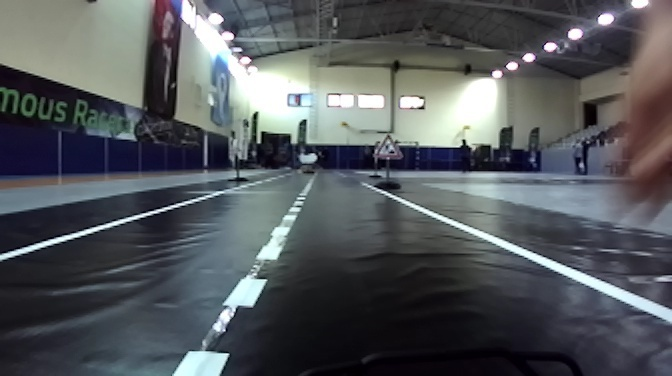yol_yapimi: (374, 132, 405, 161)
